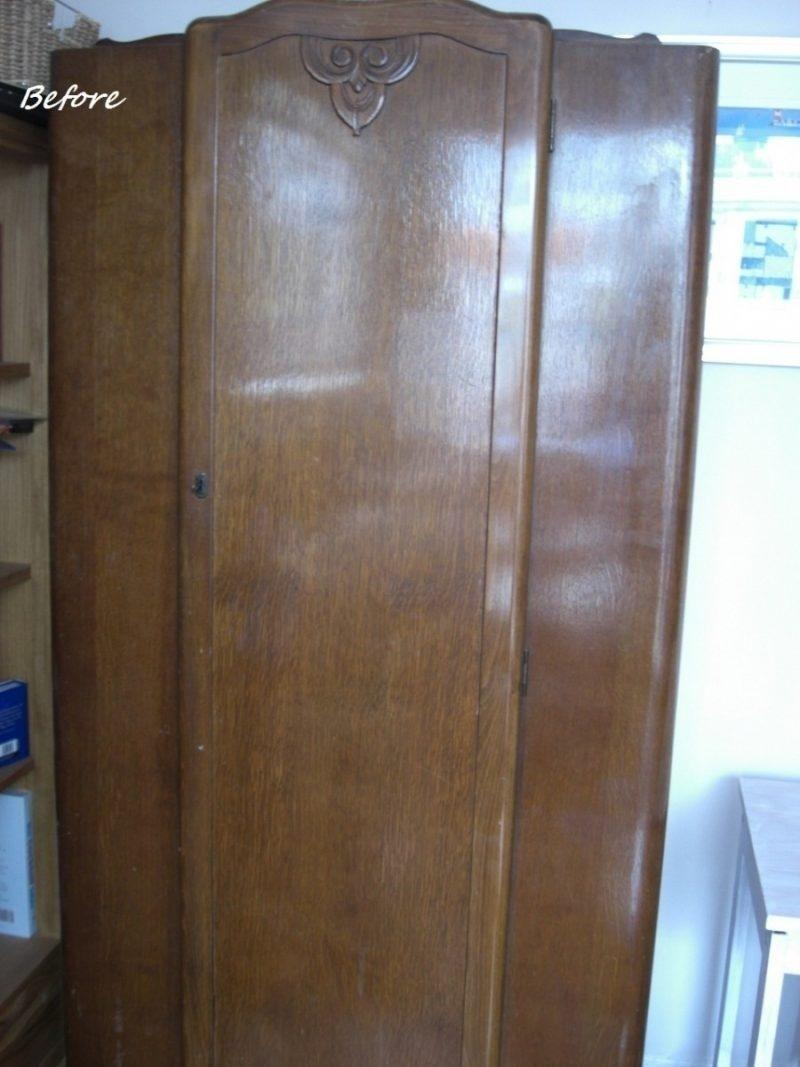Armario: (42, 6, 671, 1049)
